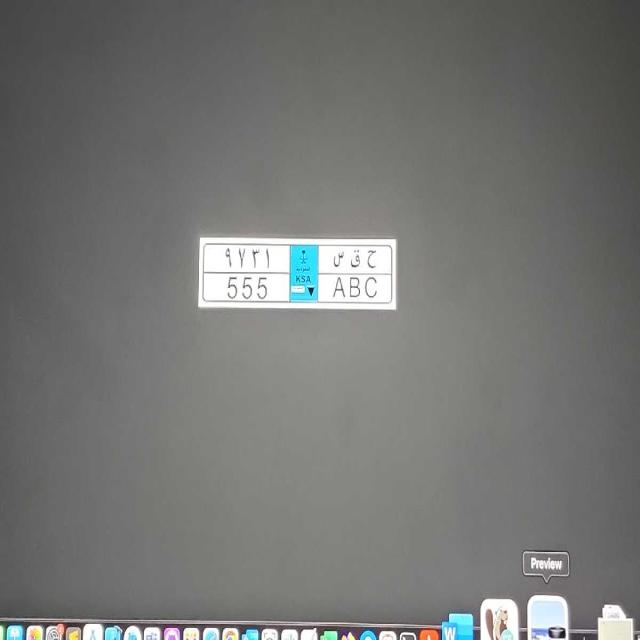license_plate: (202, 272, 392, 304)
